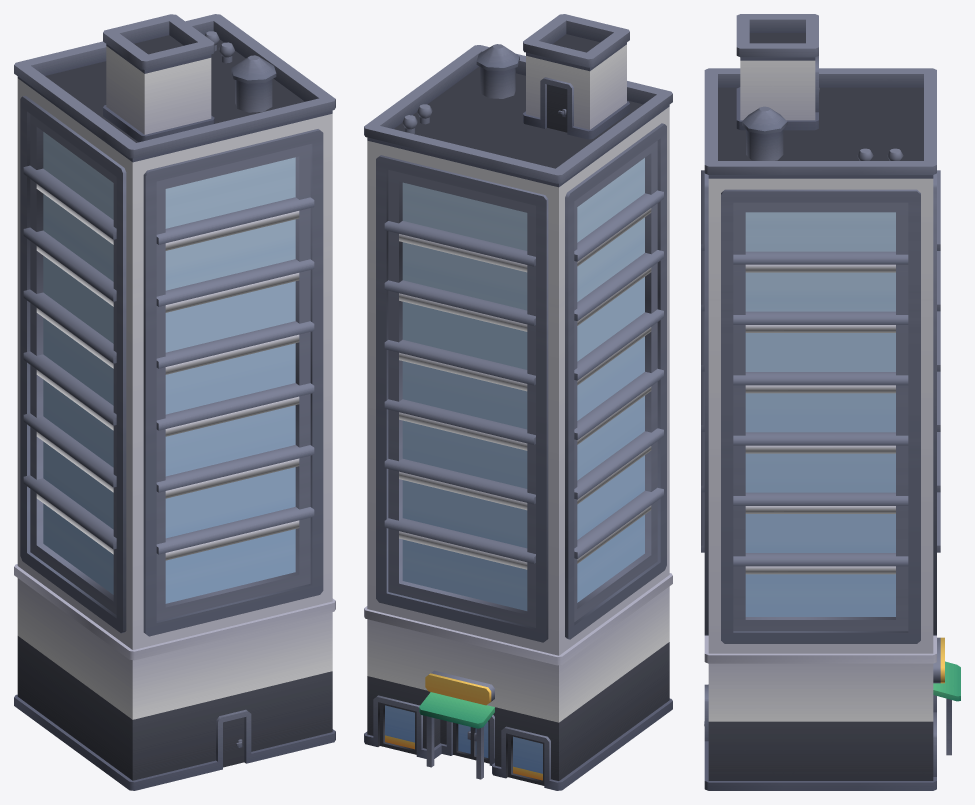
File: building-skyscraper-c.glb
The picture shows the model from 3 angles, left to right: view 1: azimuth 30°, elevation 25°; view 2: azimuth 150°, elevation 25°; view 3: azimuth 270°, elevation 25°; orthographic projection. The views are drawn at different scales.
Parts seen in each view (by area): view 1: building-skyscraper-c; view 2: building-skyscraper-c; view 3: building-skyscraper-c.
Part boxes in pixels (x1,y1,x2,y2): building-skyscraper-c: (14,14,335,790); building-skyscraper-c: (364,14,672,790); building-skyscraper-c: (701,14,960,790).
Bounding box in the file's own units: 1.28 × 4.08 × 1.39.
Materials: 1 (1 with a texture image).
